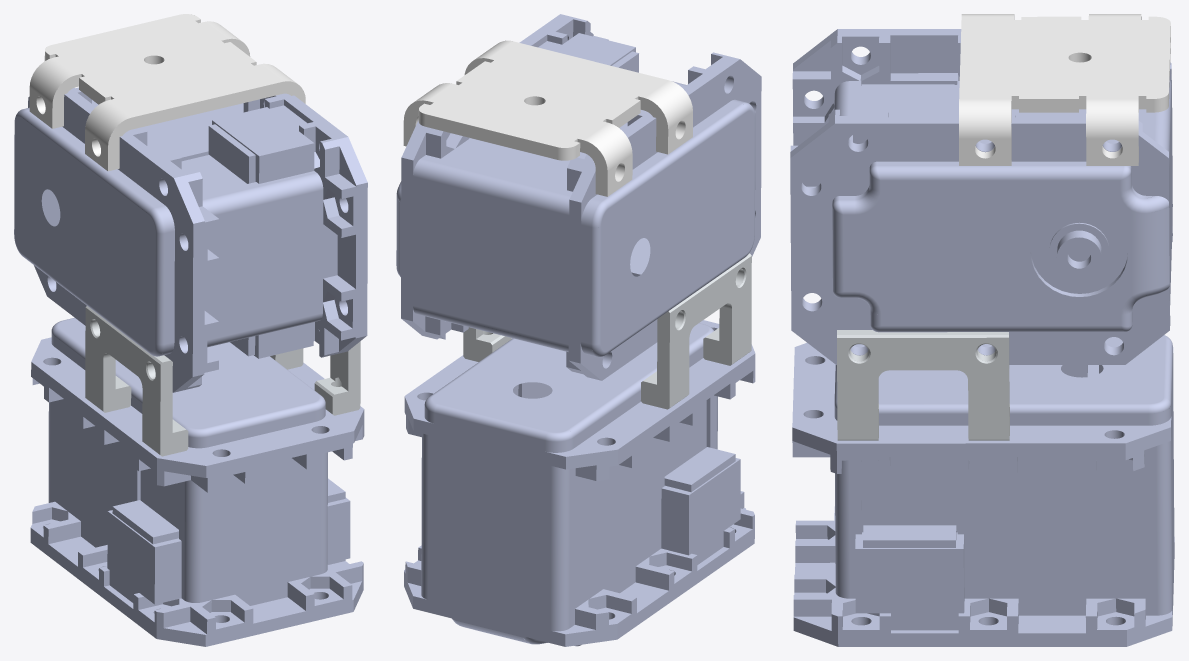
3 renders of one model, left to right at view 1: azimuth 30°, elevation 25°; view 2: azimuth 150°, elevation 25°; view 3: azimuth 270°, elevation 25°, orthographic. The views are drawn at different scales.
Parts seen in each view (by area): view 1: NONE_DC_Shell, Edge_Flange1_DC_Shell, Imported1_DC_Shell; view 2: NONE_DC_Shell, Edge_Flange1_DC_Shell, Imported1_DC_Shell; view 3: NONE_DC_Shell, Edge_Flange1_DC_Shell, Imported1_DC_Shell.
Boxes of the visible parts, box(x1,y1,x2,y2) form: NONE_DC_Shell: box(14, 87, 367, 646); Edge_Flange1_DC_Shell: box(29, 14, 305, 171); Imported1_DC_Shell: box(85, 306, 360, 456); NONE_DC_Shell: box(396, 14, 761, 646); Edge_Flange1_DC_Shell: box(403, 40, 692, 196); Imported1_DC_Shell: box(463, 253, 751, 409); NONE_DC_Shell: box(790, 29, 1174, 646); Edge_Flange1_DC_Shell: box(959, 14, 1170, 165); Imported1_DC_Shell: box(837, 330, 1009, 440).
Size of the model in its own units: 37.44 by 82.84 by 51.38.
